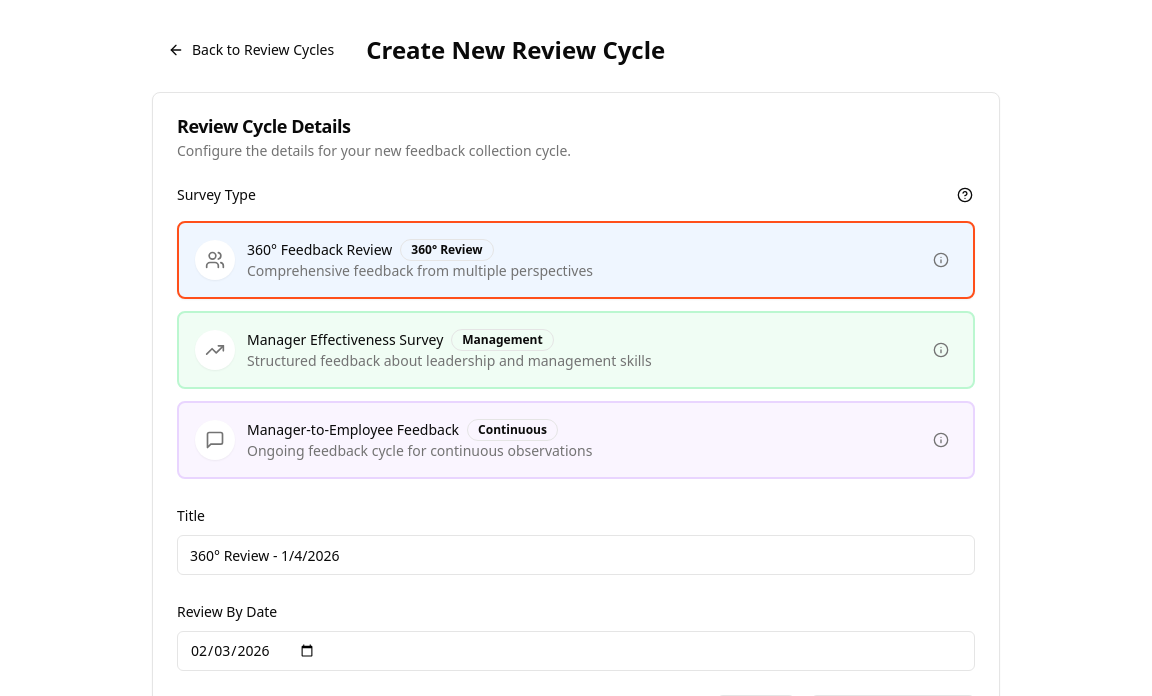
Scenario: NewReviewCyclePage › updates form data when survey type changes
This screenshot has width=1152, height=696.
// Select manager effectiveness
Click the 2nd radio button named "Manager Effectiveness Survey" at (184, 318), box x1=176 y1=310 x2=192 y2=326
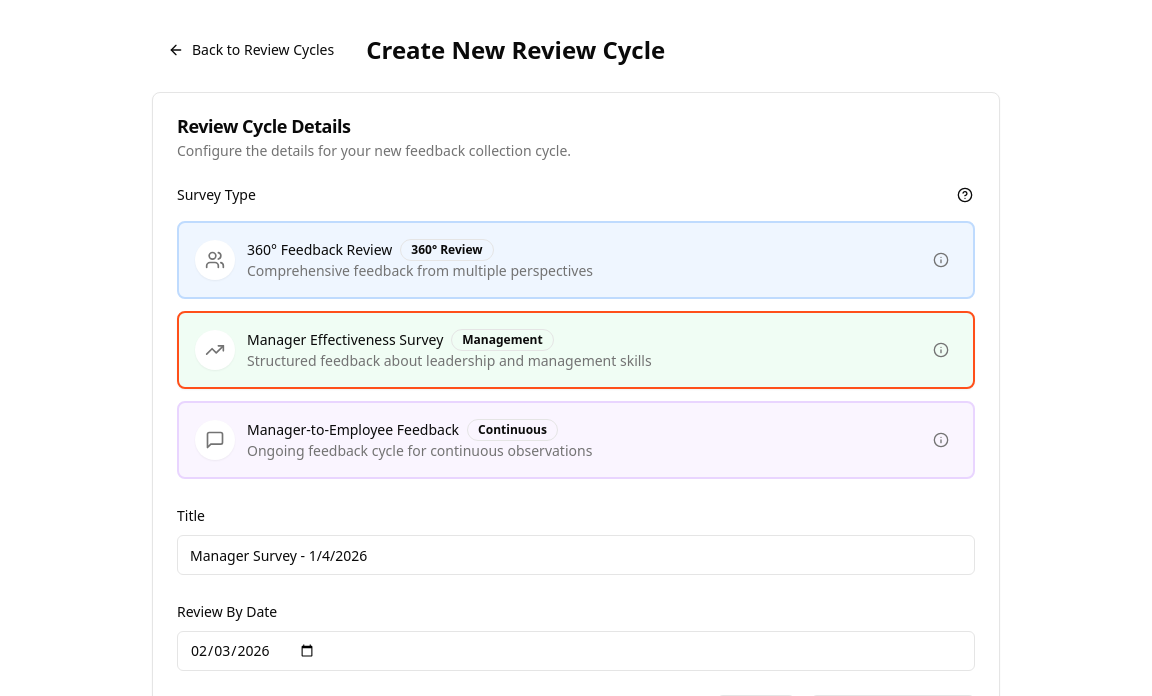
Expected: the 2nd radio button named "Manager Effectiveness Survey" is checked, x1=176 y1=310 x2=192 y2=326
Expected: the field showing "Manager Survey" is shown, x1=177 y1=535 x2=975 y2=575
